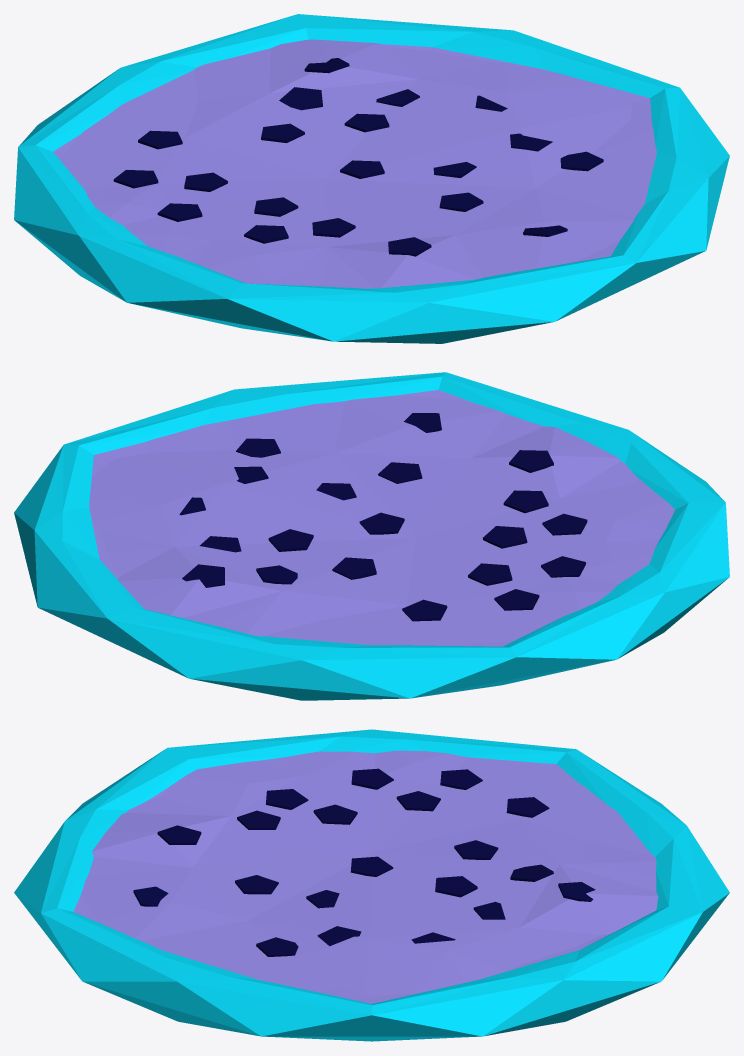
Rendered from Pizza.fbx.
The picture shows the model from 3 angles, top to bottom: view 1: azimuth 30°, elevation 25°; view 2: azimuth 150°, elevation 25°; view 3: azimuth 270°, elevation 25°; orthographic projection. The views are drawn at different scales.
Visible parts, largest first — view 1: Pizza; view 2: Pizza; view 3: Pizza.
Part boxes in pixels (x1=…): Pizza: x1=14, y1=14, x2=729, y2=343; Pizza: x1=14, y1=372, x2=729, y2=700; Pizza: x1=14, y1=729, x2=729, y2=1041.
Size of the model in its own units: 49.18 by 3.96 by 51.14.
